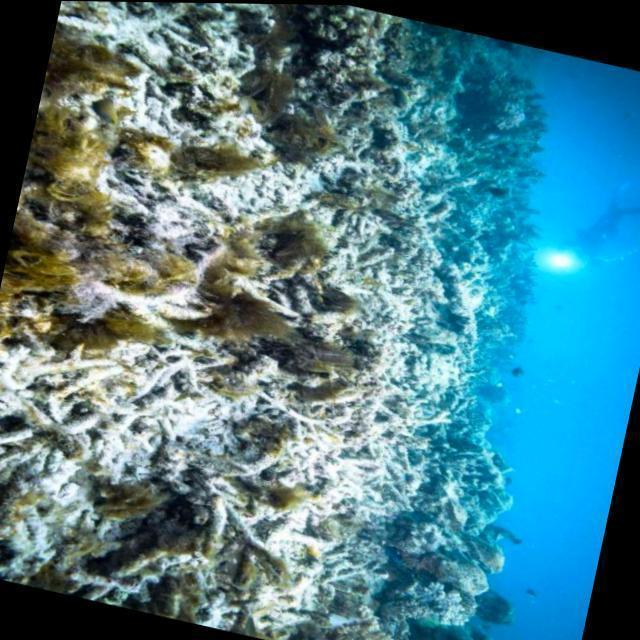Dead Coral: (31, 8, 554, 637)
